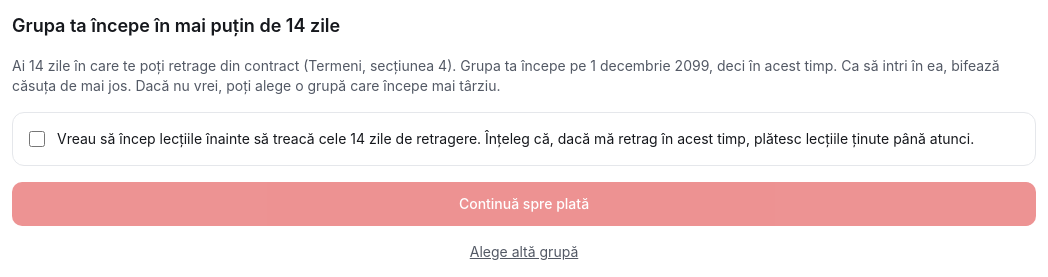
Scenario: the early-start box › cannot continue until the student ticks it themselves
This screenshot has width=1048, height=277.
Later steps or results of the test are not shown.
expect the checkbox is not checked: met, box [29, 131, 45, 147]
Step 1. Click the button "Continuă spre plată" → (524, 204), box [12, 182, 1036, 226]
Step 2. Click the checkbox → (37, 139), box [29, 131, 45, 147]
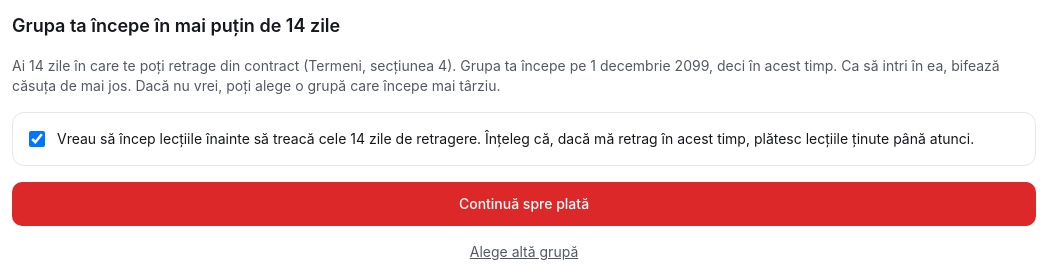
expect the button "Continuă spre plată" is enabled: met, box [12, 182, 1036, 226]
